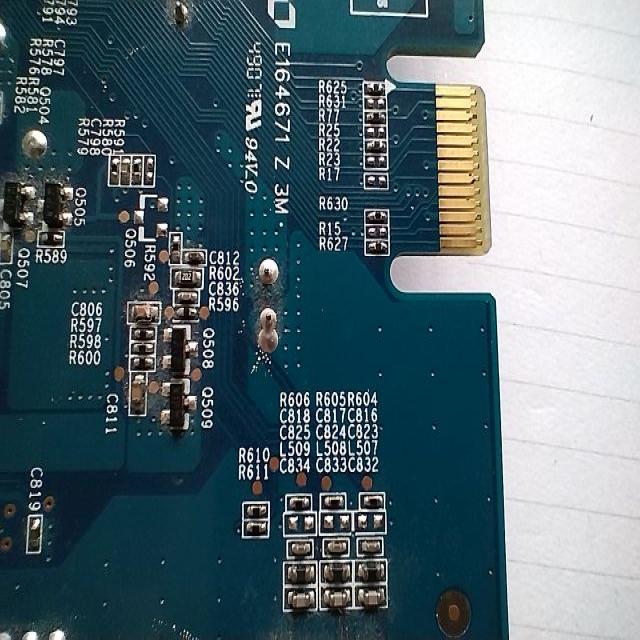capacitor: (276, 580, 318, 616), (318, 586, 356, 615), (357, 585, 387, 616)
resistor: (315, 476, 355, 523), (278, 479, 320, 513), (354, 236, 400, 262), (353, 487, 399, 510), (365, 204, 395, 234)
